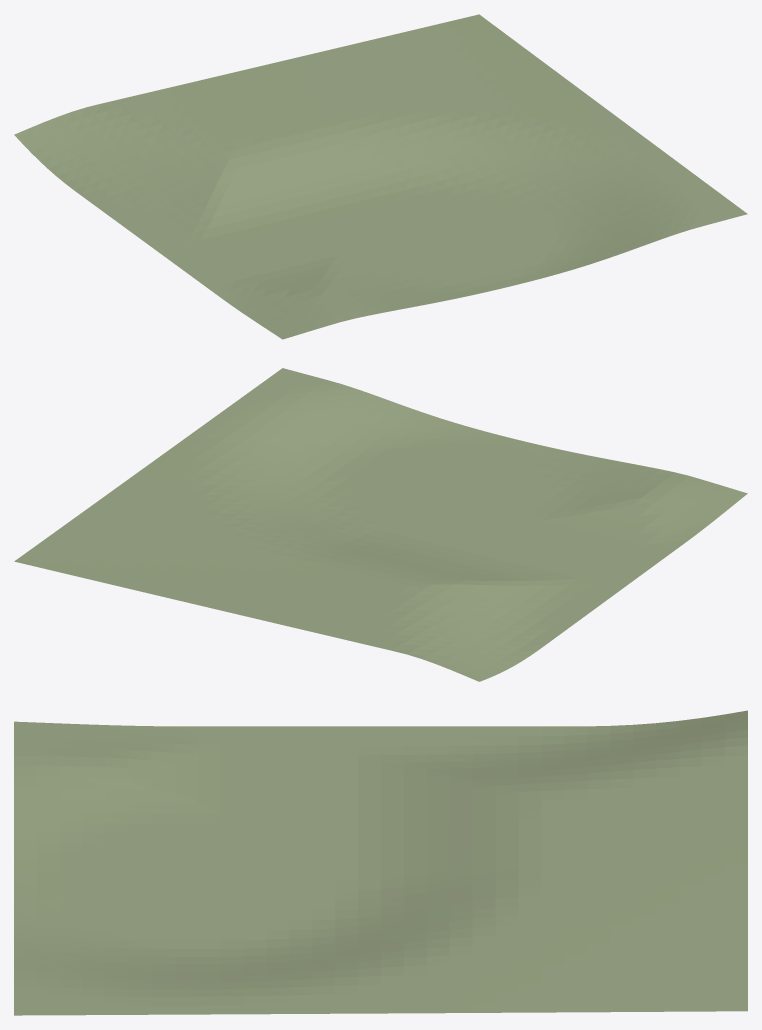
The model's file is gardens-2-4.glb.
3 renders of one model, top to bottom at view 1: azimuth 30°, elevation 25°; view 2: azimuth 150°, elevation 25°; view 3: azimuth 270°, elevation 25°, orthographic. The views are drawn at different scales.
Parts seen in each view (by area): view 1: gardens-2-4; view 2: gardens-2-4; view 3: gardens-2-4.
Part boxes in pixels (box(x1,y1,x2,y2)): gardens-2-4: box(14, 14, 747, 339); gardens-2-4: box(14, 368, 747, 681); gardens-2-4: box(14, 710, 747, 1015).
Size of the model in its own units: 256 by 11.31 by 256.
